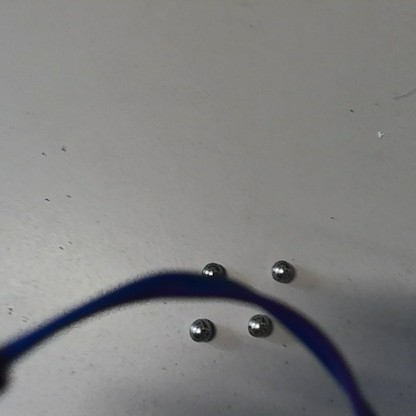ironball: (248, 311, 270, 339), (271, 258, 295, 282), (189, 316, 211, 342), (200, 260, 225, 278)
